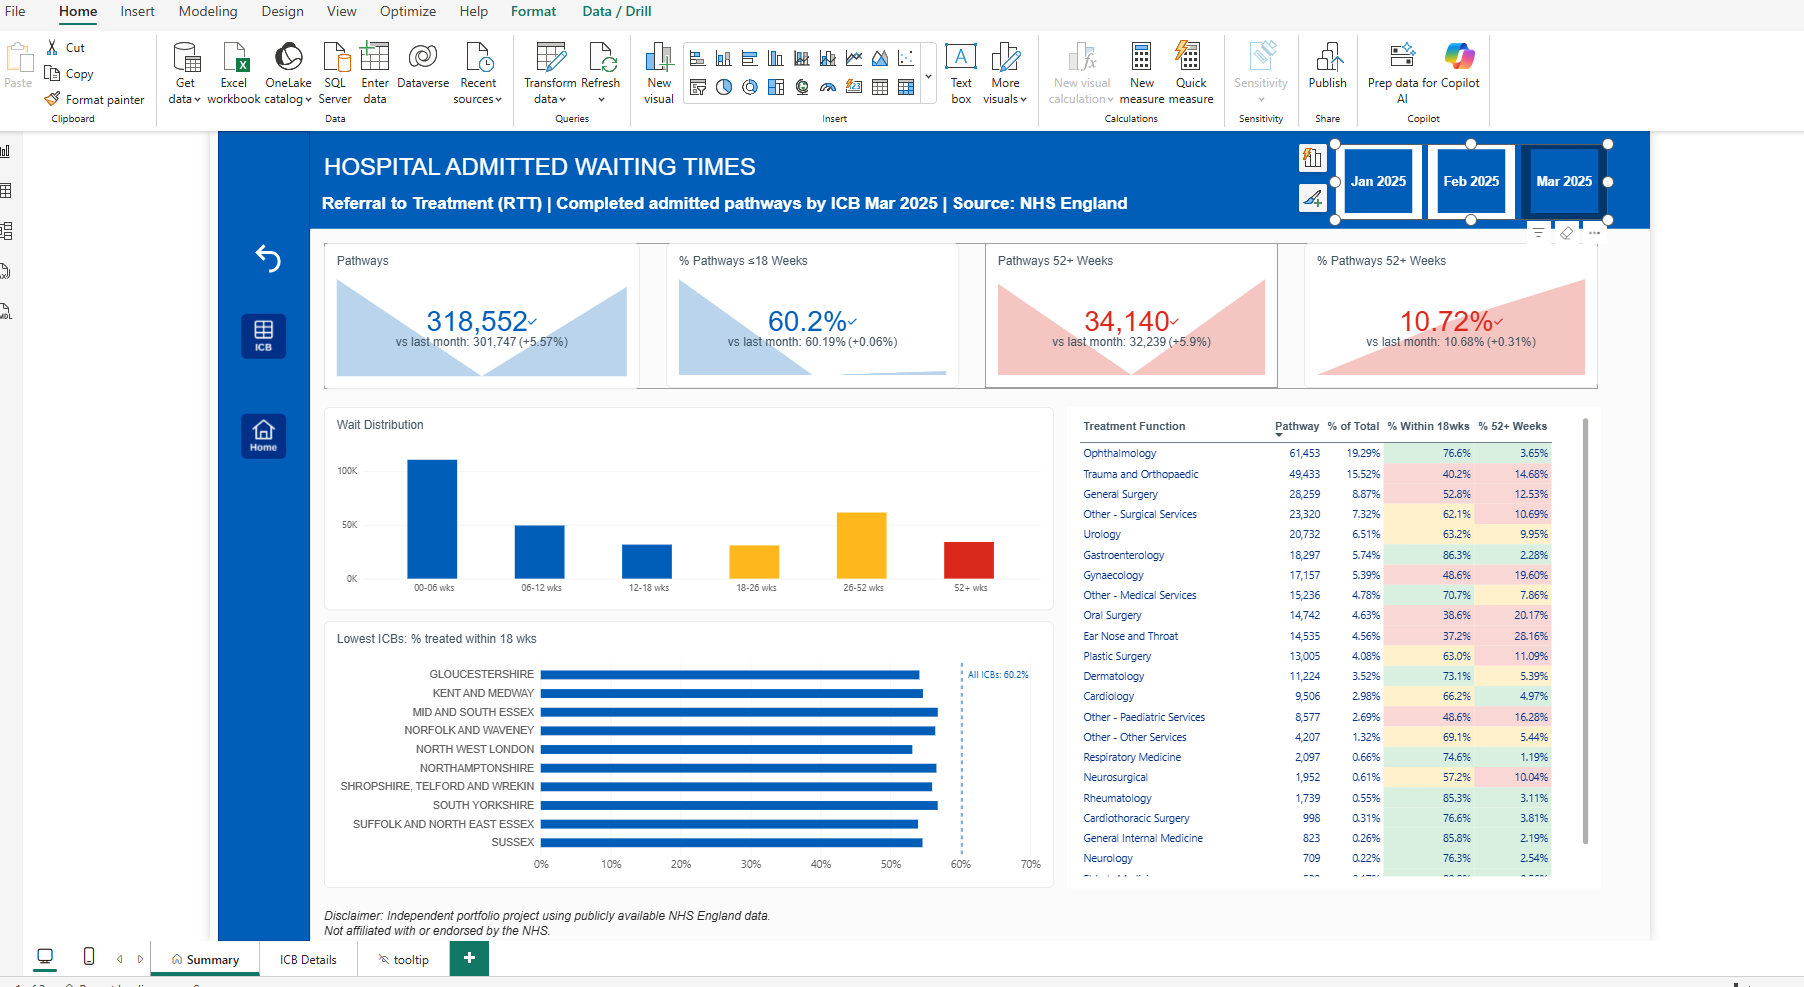

The page's visual inventory and layout, read from the dashboard file:
{"tool":"powerbi","page":{"name":"Summary","canvas":[1920,1080],"ordinal":0},"visuals":[{"type":"shape","title":"Nav_Bar","box":[10.5,0,122.7,1080.5],"z":0},{"type":"shape","title":"Header_Bar","box":[133.2,0,1786.8,130.2],"z":1},{"type":"kpi","title":"Pathways","fields":{"Goal":["Measures_Table.Total Pathway LastMonth"],"Indicator":["Measures_Table.Total Pathway"],"TrendLine":["Calendar_Table.Month Year"]},"box":[152.6,149.6,420.5,194.5],"z":4,"group":"g1"},{"type":"kpi","title":"% Pathways ≤18 Weeks","fields":{"Goal":["Measures_Table.% Within 18 weeks last month"],"Indicator":["Measures_Table.% Within 18wks"],"TrendLine":["Calendar_Table.Month Year"]},"box":[608,149.6,390.6,193],"z":5,"group":"g1"},{"type":"kpi","title":"Pathways 52+ Weeks","fields":{"Goal":["Measures_Table.Pathway 52+ weeks last month"],"Indicator":["Measures_Table.Pathway 52+ Weeks"],"TrendLine":["Calendar_Table.Month Year"]},"box":[1033.5,149.6,390.6,193],"z":6,"group":"g1"},{"type":"kpi","title":"% Pathways 52+ Weeks","fields":{"Goal":["Measures_Table.% 52+ weeks last month"],"Indicator":["Measures_Table.% 52+ Weeks"],"TrendLine":["Calendar_Table.Month Year"]},"box":[1459,149.6,392.1,193],"z":7,"group":"g1"},{"type":"clusteredColumnChart","title":"Wait Distribution","fields":{"Category":["Dim_WeekBand.Wait Group"],"Y":["Measures_Table.Total Pathway"]},"box":[152.6,368.1,972.7,270.9],"z":8},{"type":"tableEx","fields":{"Values":["Dim_Specialty.Treatment Function","Measures_Table.Total Pathway","Measures_Table.% All Pathways","Measures_Table.% Within 18wks","Measures_Table.% 52+ Weeks"]},"box":[1143.3,368.1,712.3,642],"z":9},{"type":"advancedSlicerVisual","fields":{"Values":["Calendar_Table.Month Year"]},"box":[1500.1,17.4,364,101.3],"z":10},{"type":"group","id":"g1","title":"Group 1","box":[152.6,149.6,1698.5,194.5],"z":12},{"type":"actionButton","box":[22.9,118.8,109.8,101.1],"z":13},{"type":"actionButton","box":[10.6,234.3,122.5,77.1],"z":14},{"type":"actionButton","box":[10.5,367.6,122.5,77.1],"z":15},{"type":"clusteredBarChart","title":"Lowest ICBs: % treated within 18 wks","fields":{"Category":["Dim_ICB.ICB Short Name"],"Y":["Measures_Table.% Within 18wks"]},"box":[152.6,654,972.7,356.2],"z":16},{"type":"textbox","box":[152.6,1037.1,909.9,43.4],"z":17},{"type":"cardVisual","fields":{"Data":["Measures_Table.Header Subtitle"]},"box":[133.2,64.3,1141.8,65.8],"z":18},{"type":"textbox","box":[152.6,29.9,633,49.4],"z":19}]}

Visuals, with their boxes on the page's 1920x1080 design canvas (x1, y1, x2, y2). These are canvas units, not pixel positions in the 1804x987 screenshot, which may show the page scaled, cropped or inside an application window:
"Nav_Bar" shape: (x1=10, y1=0, x2=133, y2=1080)
"Header_Bar" shape: (x1=133, y1=0, x2=1920, y2=130)
"Pathways" kpi: (x1=153, y1=150, x2=573, y2=344)
"% Pathways ≤18 Weeks" kpi: (x1=608, y1=150, x2=999, y2=343)
"Pathways 52+ Weeks" kpi: (x1=1034, y1=150, x2=1424, y2=343)
"% Pathways 52+ Weeks" kpi: (x1=1459, y1=150, x2=1851, y2=343)
"Wait Distribution" clusteredColumnChart: (x1=153, y1=368, x2=1125, y2=639)
tableEx - Dim_Specialty.Treatment Function x Measures_Table.Total Pathway: (x1=1143, y1=368, x2=1856, y2=1010)
advancedSlicerVisual - Calendar_Table.Month Year: (x1=1500, y1=17, x2=1864, y2=119)
"Group 1" group: (x1=153, y1=150, x2=1851, y2=344)
actionButton: (x1=23, y1=119, x2=133, y2=220)
actionButton: (x1=11, y1=234, x2=133, y2=311)
actionButton: (x1=10, y1=368, x2=133, y2=445)
"Lowest ICBs: % treated within 18 wks" clusteredBarChart: (x1=153, y1=654, x2=1125, y2=1010)
textbox: (x1=153, y1=1037, x2=1062, y2=1080)
cardVisual - Measures_Table.Header Subtitle: (x1=133, y1=64, x2=1275, y2=130)
textbox: (x1=153, y1=30, x2=786, y2=79)
